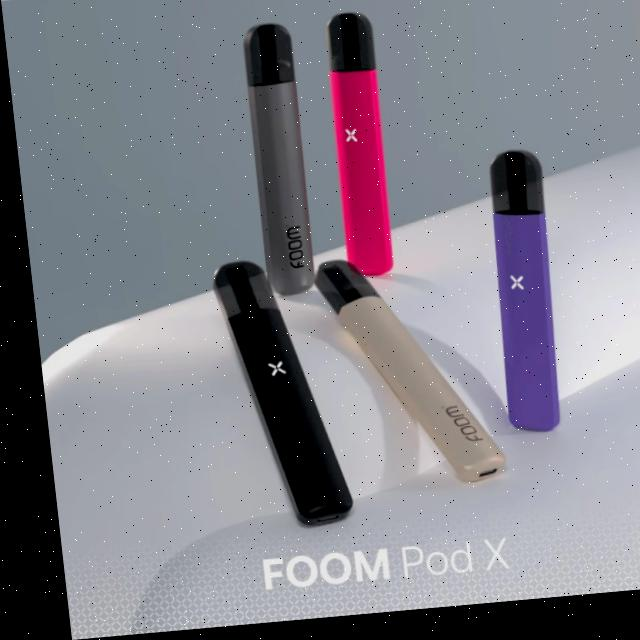vape: (304, 254, 496, 500), (202, 258, 343, 539), (474, 157, 561, 445), (237, 26, 313, 302), (318, 16, 392, 284)
